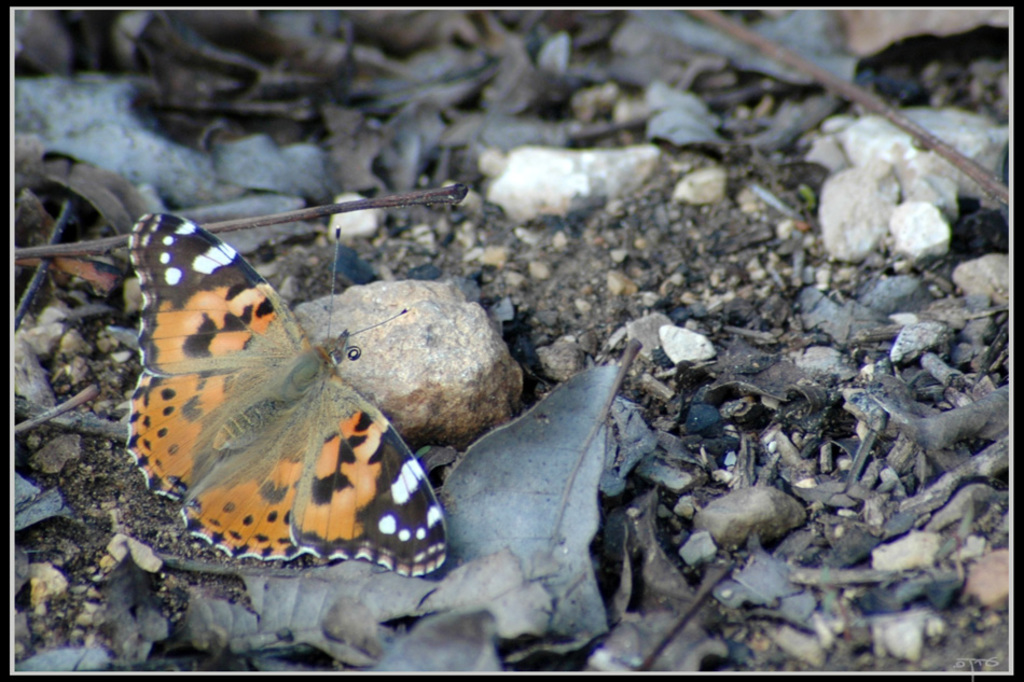Butterfly: (104, 215, 462, 601)
